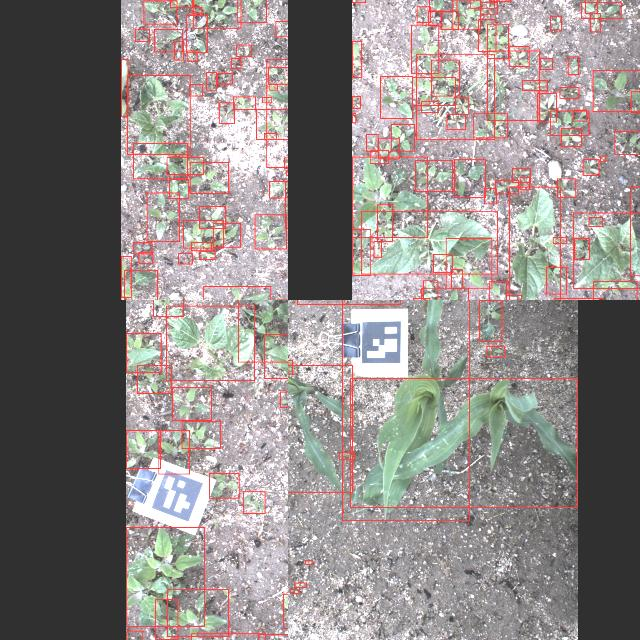crop: (349, 378, 577, 507), (341, 300, 468, 520), (361, 210, 497, 274), (288, 364, 351, 491), (166, 306, 254, 380), (508, 185, 559, 300), (126, 74, 190, 154), (573, 212, 640, 288), (266, 59, 288, 167), (126, 332, 160, 372), (263, 334, 288, 378), (352, 229, 371, 275)
weed: (126, 526, 204, 626), (416, 53, 494, 139), (351, 156, 427, 238), (487, 50, 539, 120), (237, 300, 288, 361), (166, 588, 228, 636), (445, 238, 491, 288), (592, 69, 640, 110), (133, 142, 187, 178), (146, 192, 178, 242), (410, 24, 438, 74), (379, 76, 411, 118), (158, 429, 188, 473), (126, 430, 160, 468), (193, 0, 240, 27), (172, 386, 210, 419), (412, 77, 454, 105), (190, 162, 228, 192), (414, 160, 452, 190), (454, 159, 484, 197), (183, 219, 223, 247), (180, 420, 220, 448), (254, 214, 286, 248), (123, 269, 156, 300), (431, 59, 459, 95), (203, 285, 270, 300), (255, 109, 288, 139), (136, 365, 170, 393), (478, 300, 501, 340), (550, 110, 588, 134), (593, 280, 637, 300), (155, 599, 177, 639), (473, 113, 507, 137), (186, 14, 207, 52), (452, 0, 480, 28), (209, 472, 239, 498), (142, 1, 176, 23), (487, 23, 508, 58), (212, 222, 240, 246), (153, 28, 181, 52), (165, 156, 202, 174), (420, 286, 467, 300), (581, 1, 621, 17), (390, 124, 414, 150), (236, 0, 265, 21), (376, 204, 392, 242), (614, 130, 640, 153), (477, 19, 495, 51), (199, 206, 225, 228), (546, 266, 566, 294), (538, 92, 556, 121), (242, 491, 264, 513), (152, 300, 182, 316), (120, 58, 128, 115), (120, 255, 130, 297), (168, 178, 188, 198), (508, 46, 528, 66), (378, 138, 398, 158), (267, 66, 287, 84), (556, 178, 576, 196), (488, 280, 506, 300), (351, 40, 361, 76), (432, 254, 452, 272), (561, 127, 581, 145), (218, 101, 234, 122), (494, 179, 518, 193), (440, 11, 458, 29), (269, 180, 288, 197), (422, 279, 437, 300), (233, 96, 255, 110), (428, 0, 456, 11), (446, 113, 464, 129), (574, 238, 588, 258), (582, 159, 598, 175), (512, 167, 530, 181), (370, 149, 388, 163), (132, 242, 152, 254), (522, 80, 546, 90), (454, 97, 468, 113), (416, 6, 430, 22), (451, 268, 462, 288), (560, 86, 578, 98), (420, 100, 438, 112), (274, 20, 288, 35), (479, 1, 496, 13), (468, 0, 493, 8), (216, 72, 232, 84), (365, 134, 377, 150), (428, 10, 440, 26), (631, 90, 640, 111), (206, 71, 216, 89), (568, 56, 578, 74), (590, 13, 600, 31), (486, 346, 504, 356), (283, 592, 288, 627), (188, 83, 202, 95), (236, 44, 250, 56), (134, 28, 148, 40), (484, 188, 496, 202), (190, 242, 210, 250), (174, 40, 182, 60), (125, 630, 141, 640), (585, 0, 597, 13), (170, 0, 192, 7), (540, 57, 552, 69), (138, 252, 152, 262), (177, 253, 191, 263), (550, 15, 560, 29), (279, 391, 288, 406), (198, 250, 214, 258), (373, 240, 381, 256), (338, 451, 354, 459), (588, 217, 602, 226), (519, 177, 529, 189), (574, 110, 586, 120), (230, 58, 240, 68), (351, 95, 359, 107), (187, 50, 196, 60), (505, 294, 520, 300), (552, 237, 566, 243), (191, 6, 201, 14), (264, 133, 276, 139), (261, 96, 271, 102), (268, 83, 276, 89), (294, 582, 306, 586), (288, 359, 291, 374), (351, 112, 355, 122), (600, 155, 606, 161), (304, 560, 312, 564), (290, 589, 298, 593), (286, 169, 288, 174)
